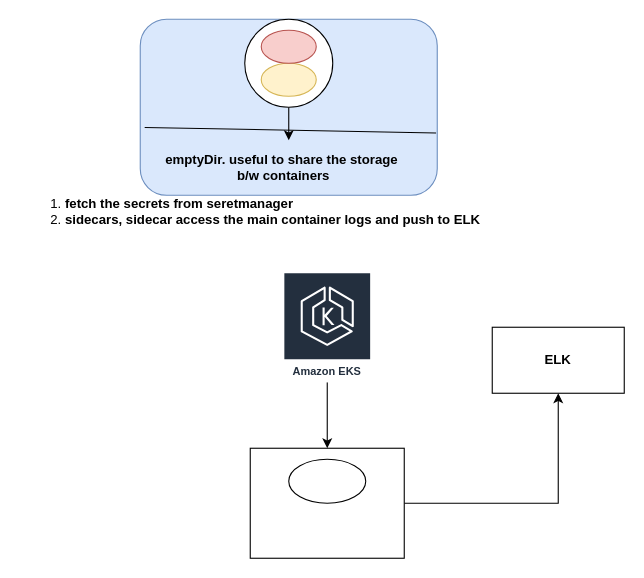
Some shapes in this 644 by 578 pixel diagram are drawn without their labels. Each missing label, with the centre of its shape:
C1: (288,46)
C2: (288,79)
